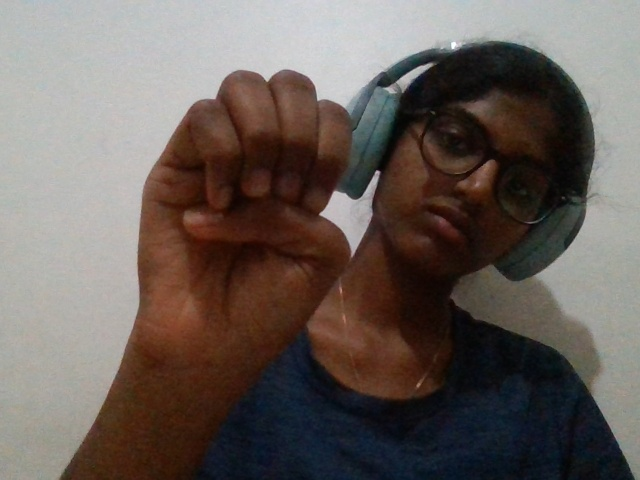E: (100, 49, 359, 423)
